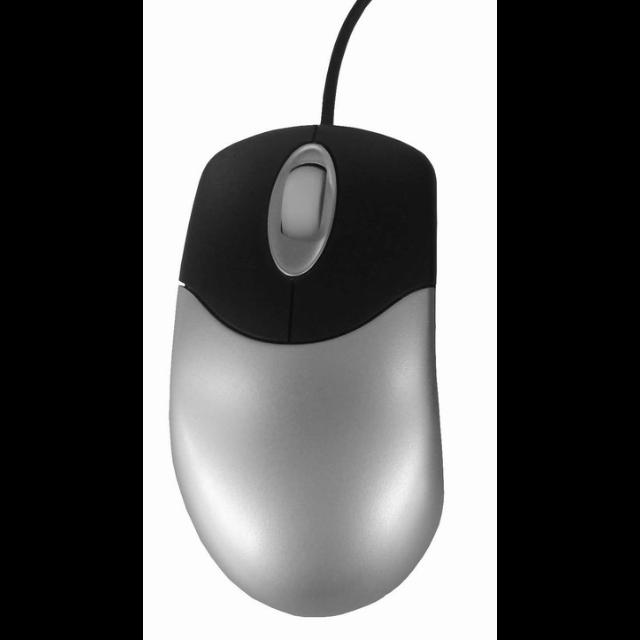Computer-Mouse: (170, 116, 445, 619)
